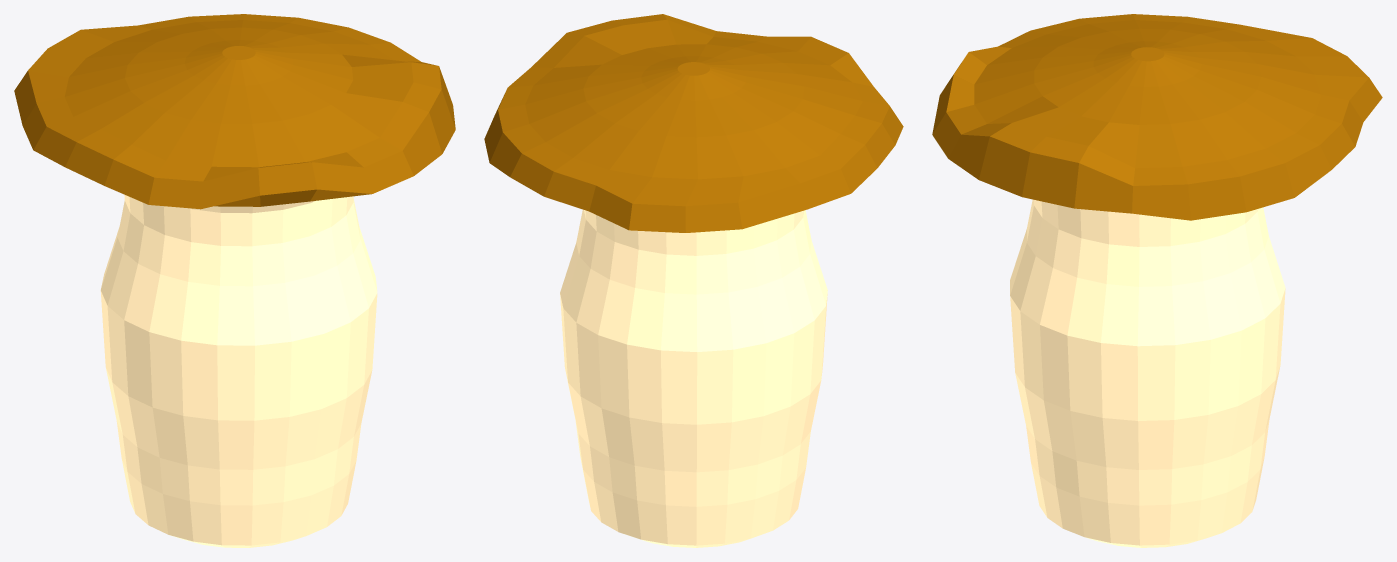
The model's file is French horn.fbx.
3 renders of one model, left to right at view 1: azimuth 30°, elevation 25°; view 2: azimuth 150°, elevation 25°; view 3: azimuth 270°, elevation 25°, orthographic. The views are drawn at different scales.
Parts seen in each view (by area): view 1: Boletus of the steppes; view 2: Boletus of the steppes; view 3: Boletus of the steppes.
Boxes of the visible parts, x1,y1,x2,y2 form: Boletus of the steppes: (14,14,455,547); Boletus of the steppes: (484,14,903,547); Boletus of the steppes: (932,14,1382,547).
Bounding box in the file's own units: 315 × 391 × 332.
